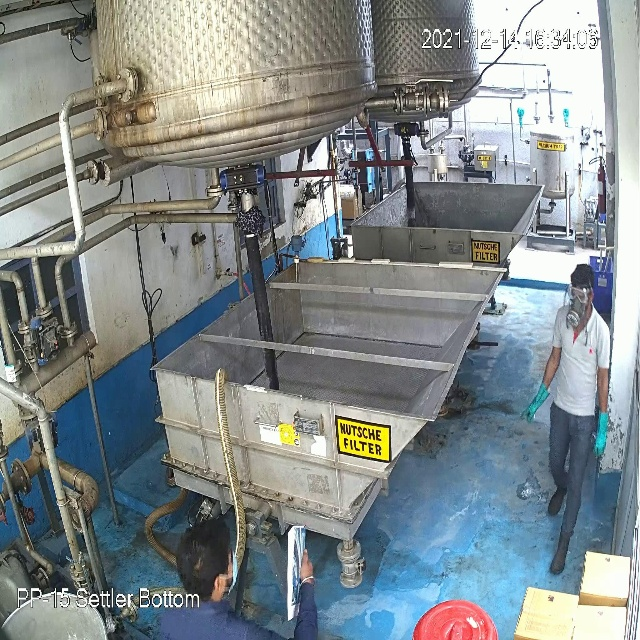Gafas: (563, 282, 593, 306)
Mascara: (564, 294, 592, 330)
